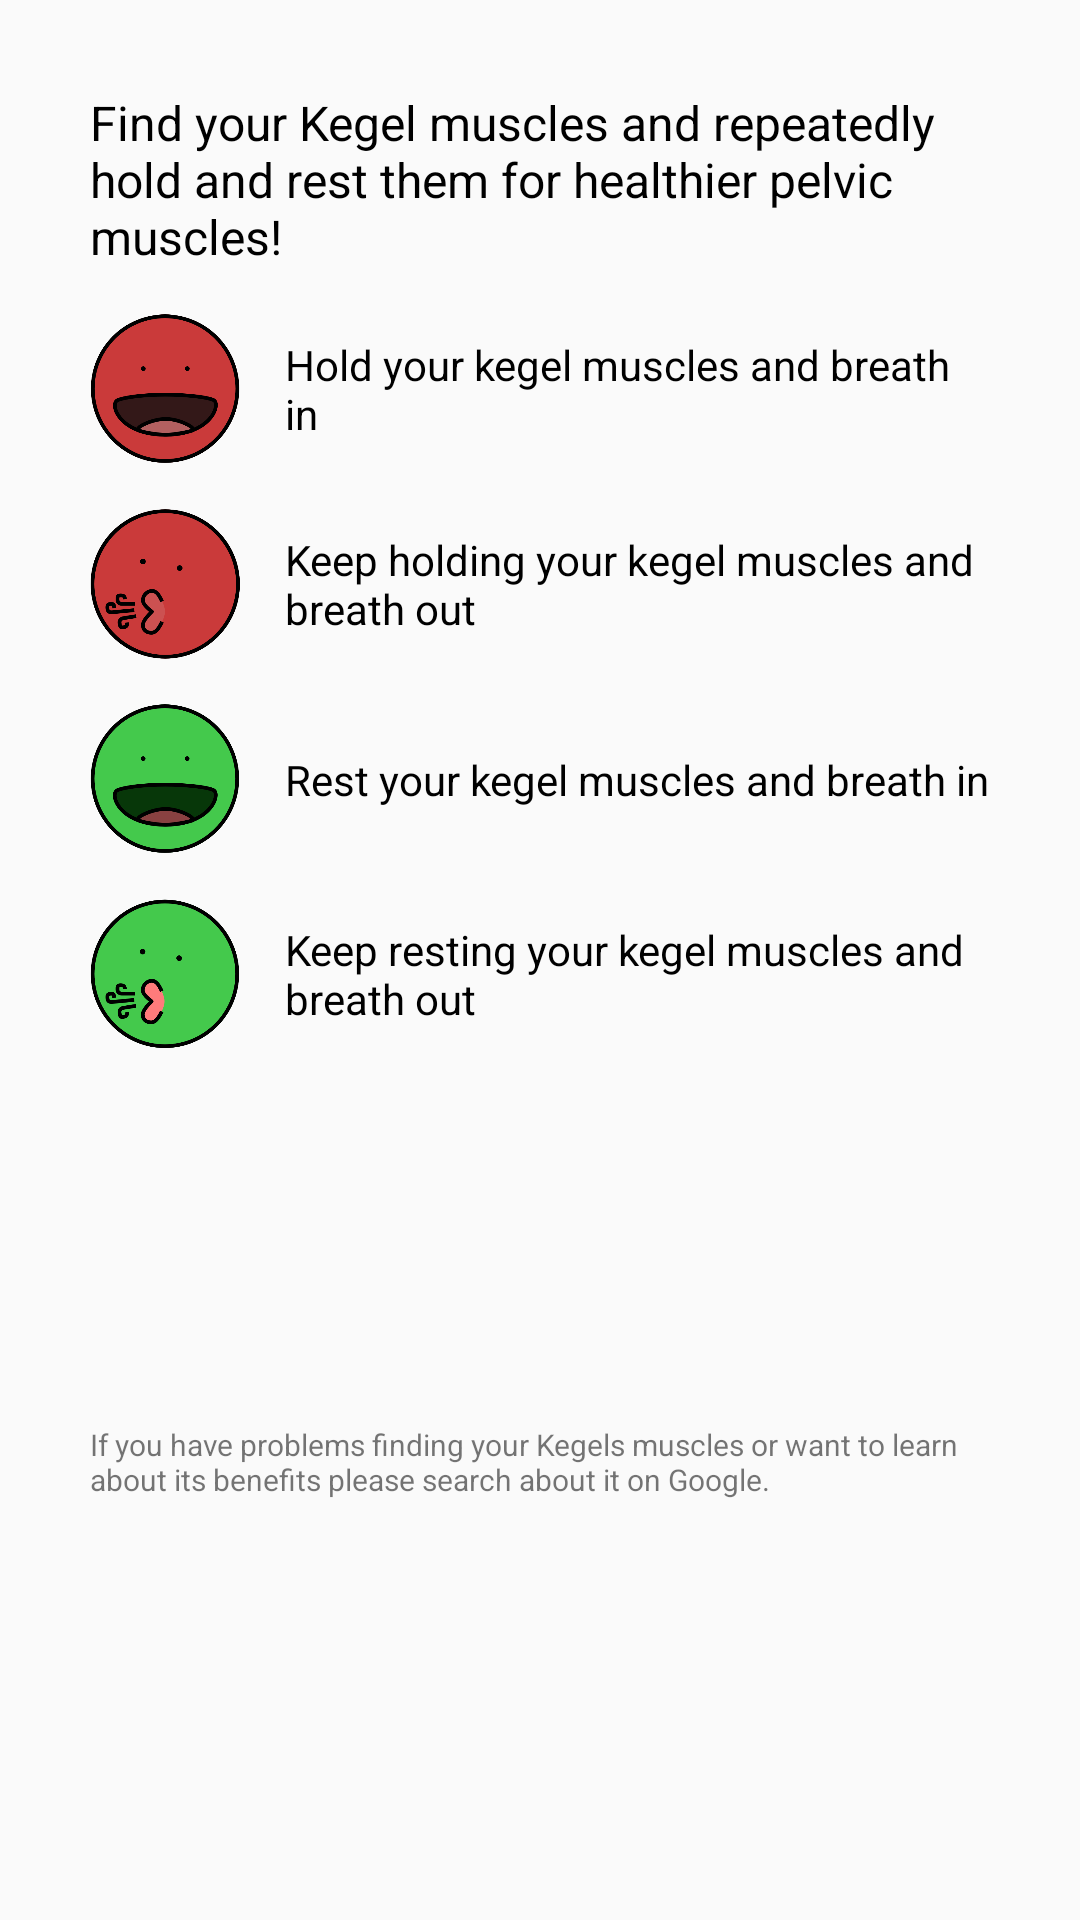

Icons on this 1080×1920 Android screen, each with its box as (x1, y1, x2, y2):
exhale hold: (90, 509, 240, 659)
exhale rest: (91, 899, 239, 1048)
inhale hold: (91, 314, 239, 463)
inhale rest: (91, 704, 239, 853)
